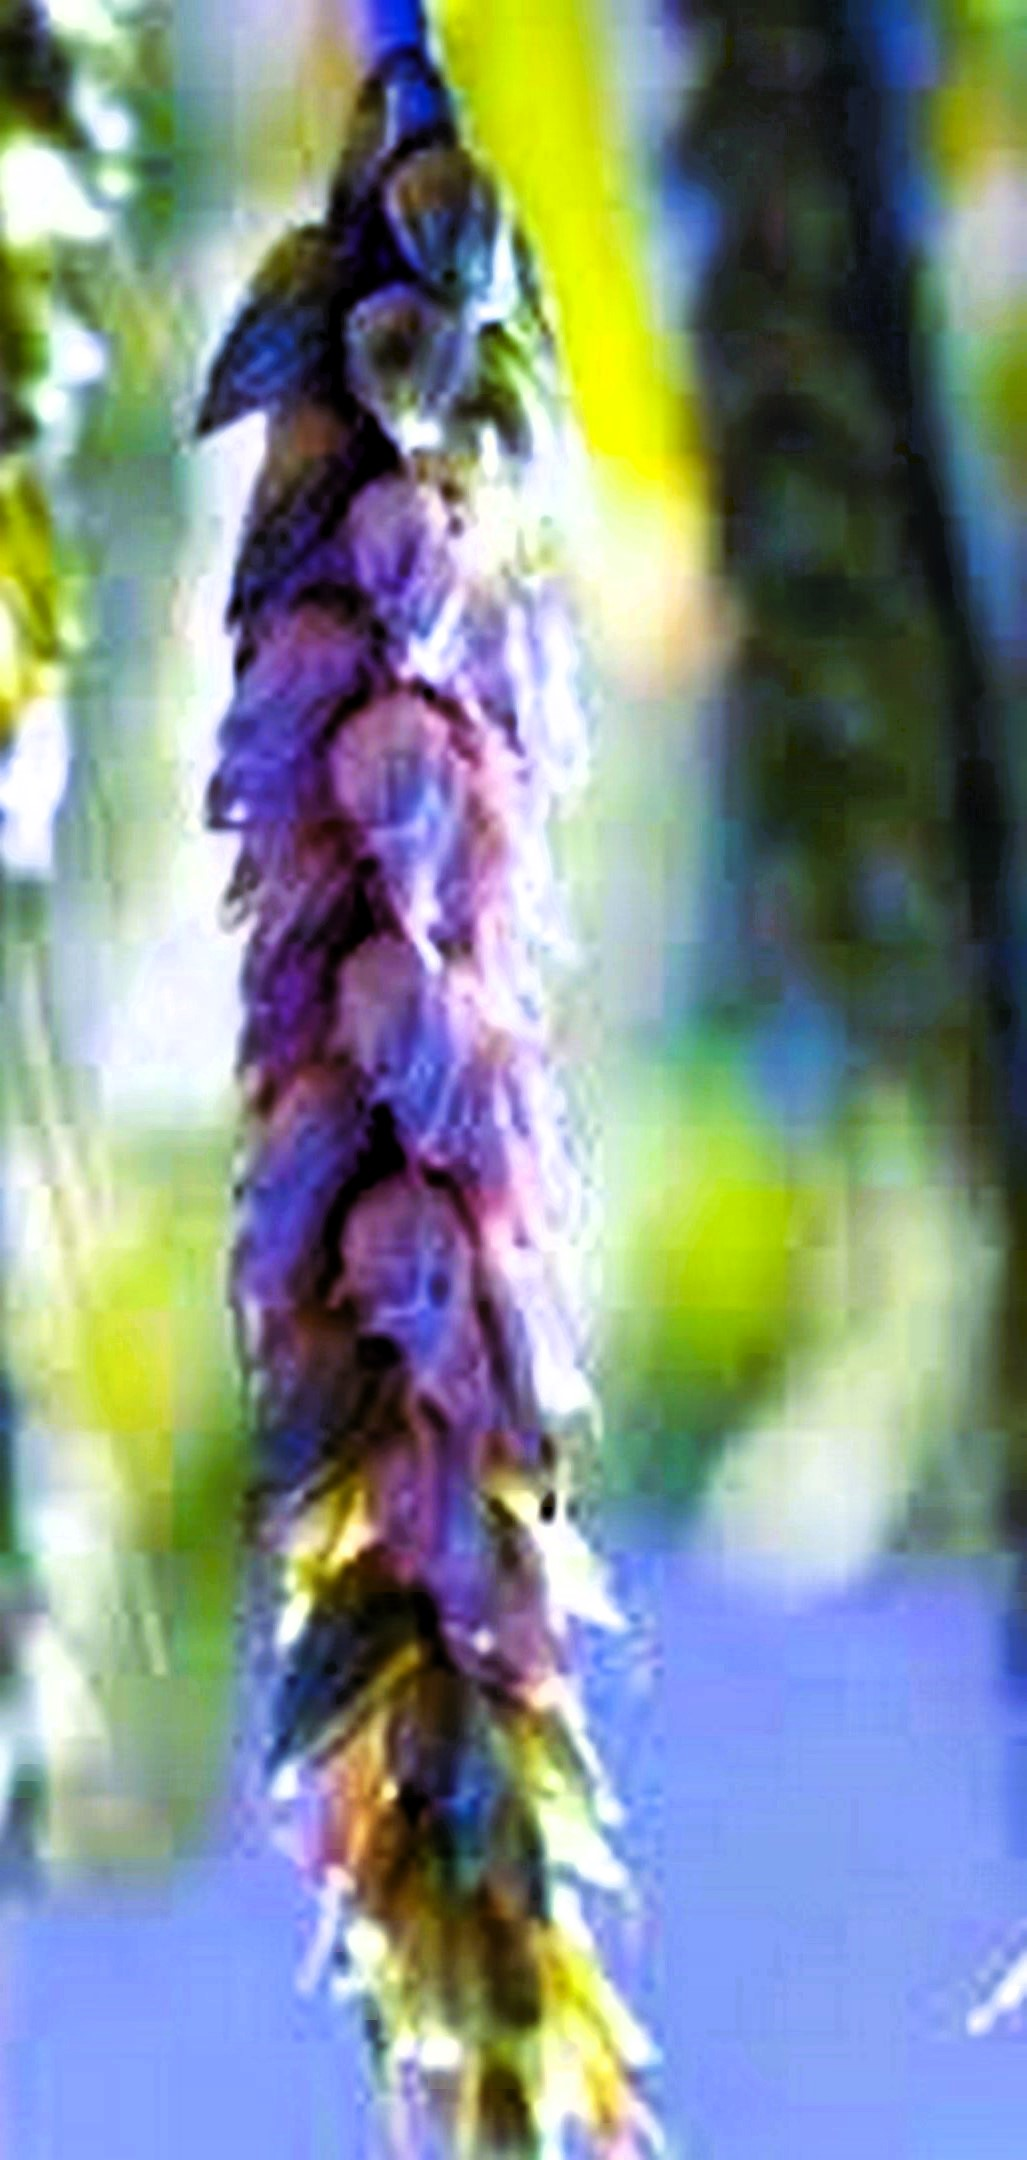Wheat scab: (169, 168, 651, 2088)
